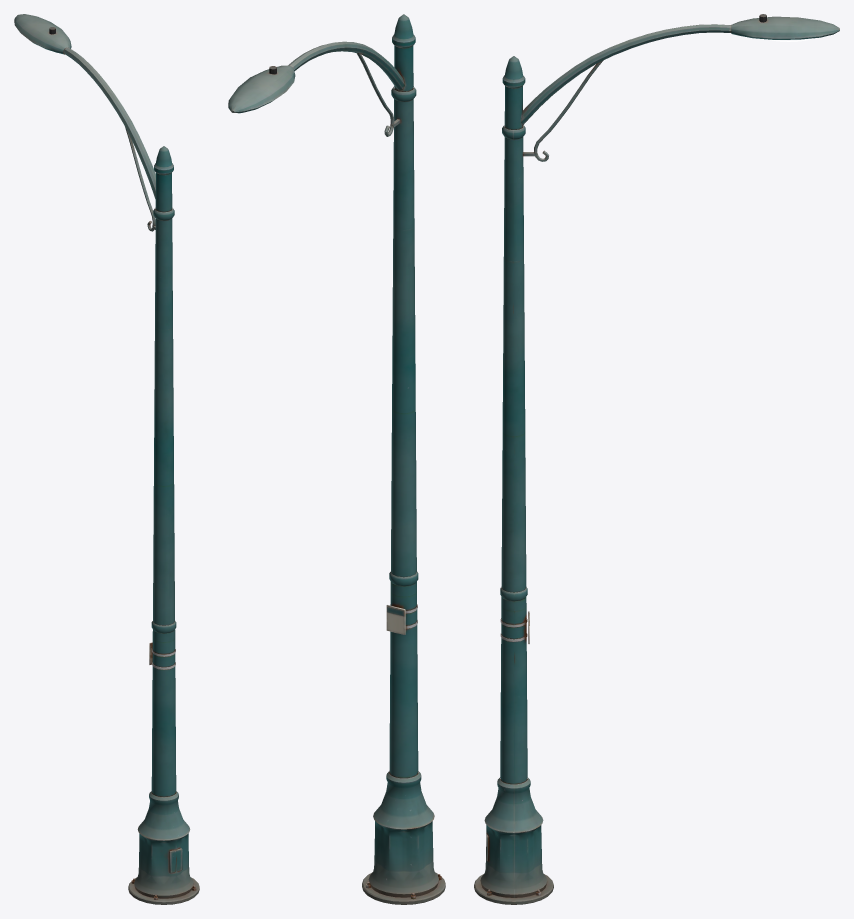
File: street_lamp_a.glb
3 views of the same model, side by side, from view 1: azimuth 30°, elevation 25°; view 2: azimuth 150°, elevation 25°; view 3: azimuth 270°, elevation 25° (orthographic). The views are drawn at different scales.
Parts seen in each view (by area): view 1: lod0; view 2: lod0; view 3: lod0.
Part boxes in pixels (<box>): lod0: <box>14,14,199,904</box>; lod0: <box>228,14,445,904</box>; lod0: <box>474,14,839,904</box>.
Size of what is drawn, in the model's own units: 0.5 by 6.03 by 2.29.
Materials: 2 (2 with a texture image).
